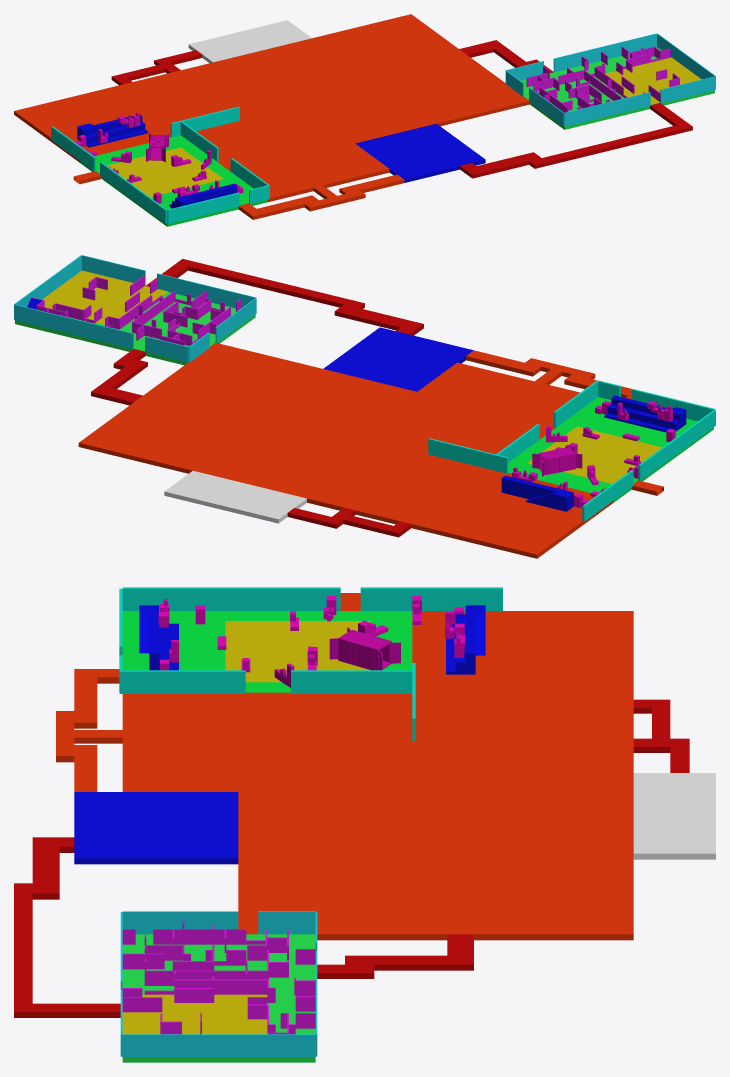
File: Blocagem_mapa_026.fbx
3 renders of one model, top to bottom at view 1: azimuth 30°, elevation 25°; view 2: azimuth 150°, elevation 25°; view 3: azimuth 270°, elevation 25°, orthographic. The views are drawn at different scales.
Parts seen in each view (by area): view 1: Corredor BD.002, Entrada Principal, Corredor BD.003, Corredor BD.004, Entrada Defensores, Área da bomba, Campo, Corredor BD, Campo.001, Área da bomba.001, Cube.067, Cube.088 (+15 smaller); view 2: Corredor BD.002, Entrada Principal, Corredor BD.003, Corredor BD.004, Campo, Entrada Defensores, Área da bomba, Área da bomba.001, Campo.001, Corredor BD, Cube.067, Entrada Atacantes.001 (+14 smaller); view 3: Corredor BD.002, Entrada Principal, Corredor BD.003, Corredor BD.004, Campo, Campo.001, Entrada Defensores, Área da bomba, 4 Neons altura.006, Cube.086, Corredor BD, Área da bomba.001 (+13 smaller).
Boxes of the visible parts, x1=… form: Corredor BD.002: x1=114, y1=14, x2=529, y2=169; Entrada Principal: x1=14, y1=86, x2=170, y2=162; Corredor BD.003: x1=355, y1=123, x2=485, y2=182; Corredor BD.004: x1=248, y1=143, x2=389, y2=202; Entrada Defensores: x1=460, y1=103, x2=692, y2=178; Área da bomba: x1=107, y1=147, x2=223, y2=197; Campo: x1=80, y1=135, x2=267, y2=226; Corredor BD: x1=238, y1=174, x2=404, y2=219; Campo.001: x1=520, y1=47, x2=714, y2=129; Área da bomba.001: x1=605, y1=57, x2=701, y2=104; Cube.067: x1=553, y1=33, x2=656, y2=72; Cube.088: x1=564, y1=92, x2=650, y2=126; Corredor BD.002: x1=78, y1=342, x2=553, y2=530; Entrada Principal: x1=421, y1=471, x2=613, y2=558; Corredor BD.003: x1=323, y1=327, x2=473, y2=391; Corredor BD.004: x1=417, y1=362, x2=579, y2=424; Campo: x1=508, y1=397, x2=713, y2=502; Entrada Defensores: x1=146, y1=259, x2=423, y2=335; Área da bomba: x1=527, y1=426, x2=661, y2=483; Área da bomba.001: x1=42, y1=270, x2=168, y2=324; Campo.001: x1=15, y1=292, x2=255, y2=365; Corredor BD: x1=466, y1=350, x2=631, y2=399; Cube.067: x1=14, y1=304, x2=133, y2=348; Entrada Atacantes.001: x1=287, y1=507, x2=411, y2=537; Corredor BD.002: x1=238, y1=692, x2=715, y2=940; Entrada Principal: x1=412, y1=611, x2=633, y2=692; Corredor BD.003: x1=74, y1=792, x2=238, y2=864; Corredor BD.004: x1=122, y1=694, x2=238, y2=791; Campo: x1=122, y1=611, x2=412, y2=692; Campo.001: x1=122, y1=934, x2=315, y2=1062; Entrada Defensores: x1=14, y1=837, x2=120, y2=1017; Área da bomba: x1=225, y1=621, x2=370, y2=682; 4 Neons altura.006: x1=122, y1=587, x2=340, y2=610; Cube.086: x1=122, y1=1034, x2=315, y2=1057; Corredor BD: x1=56, y1=669, x2=122, y2=791; Área da bomba.001: x1=122, y1=994, x2=267, y2=1034.
Size of the model in its own units: 22759 by 894 by 14539.
